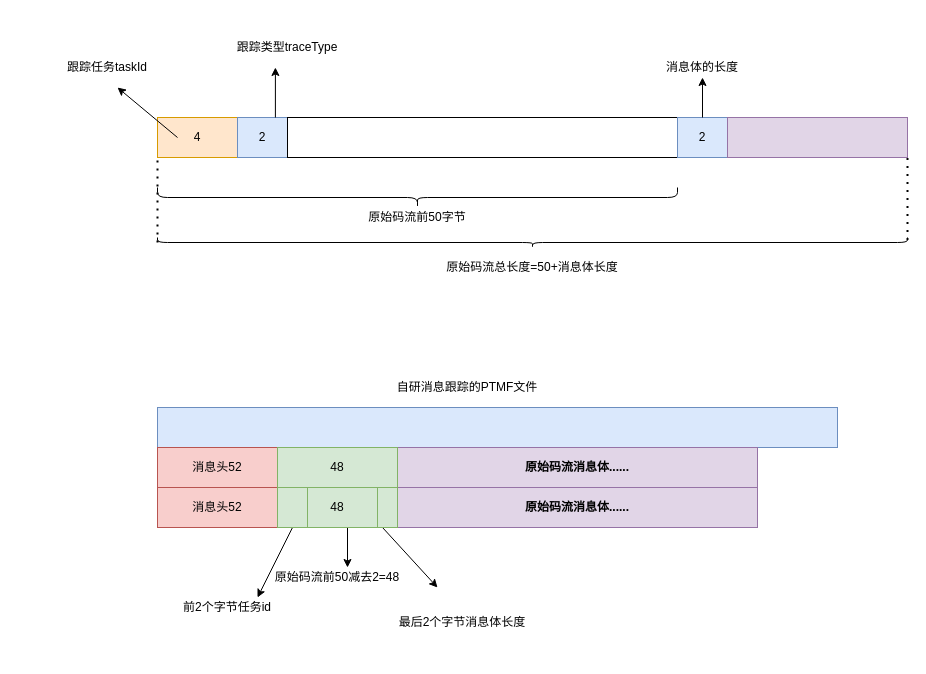
This 926x674 diagram has some shape labels left out. The centre of each missing label's shape, as x and y in pixels:
"文件头长度357" belongs at (x=497, y=427).
"消息体......" belongs at (x=817, y=137).
